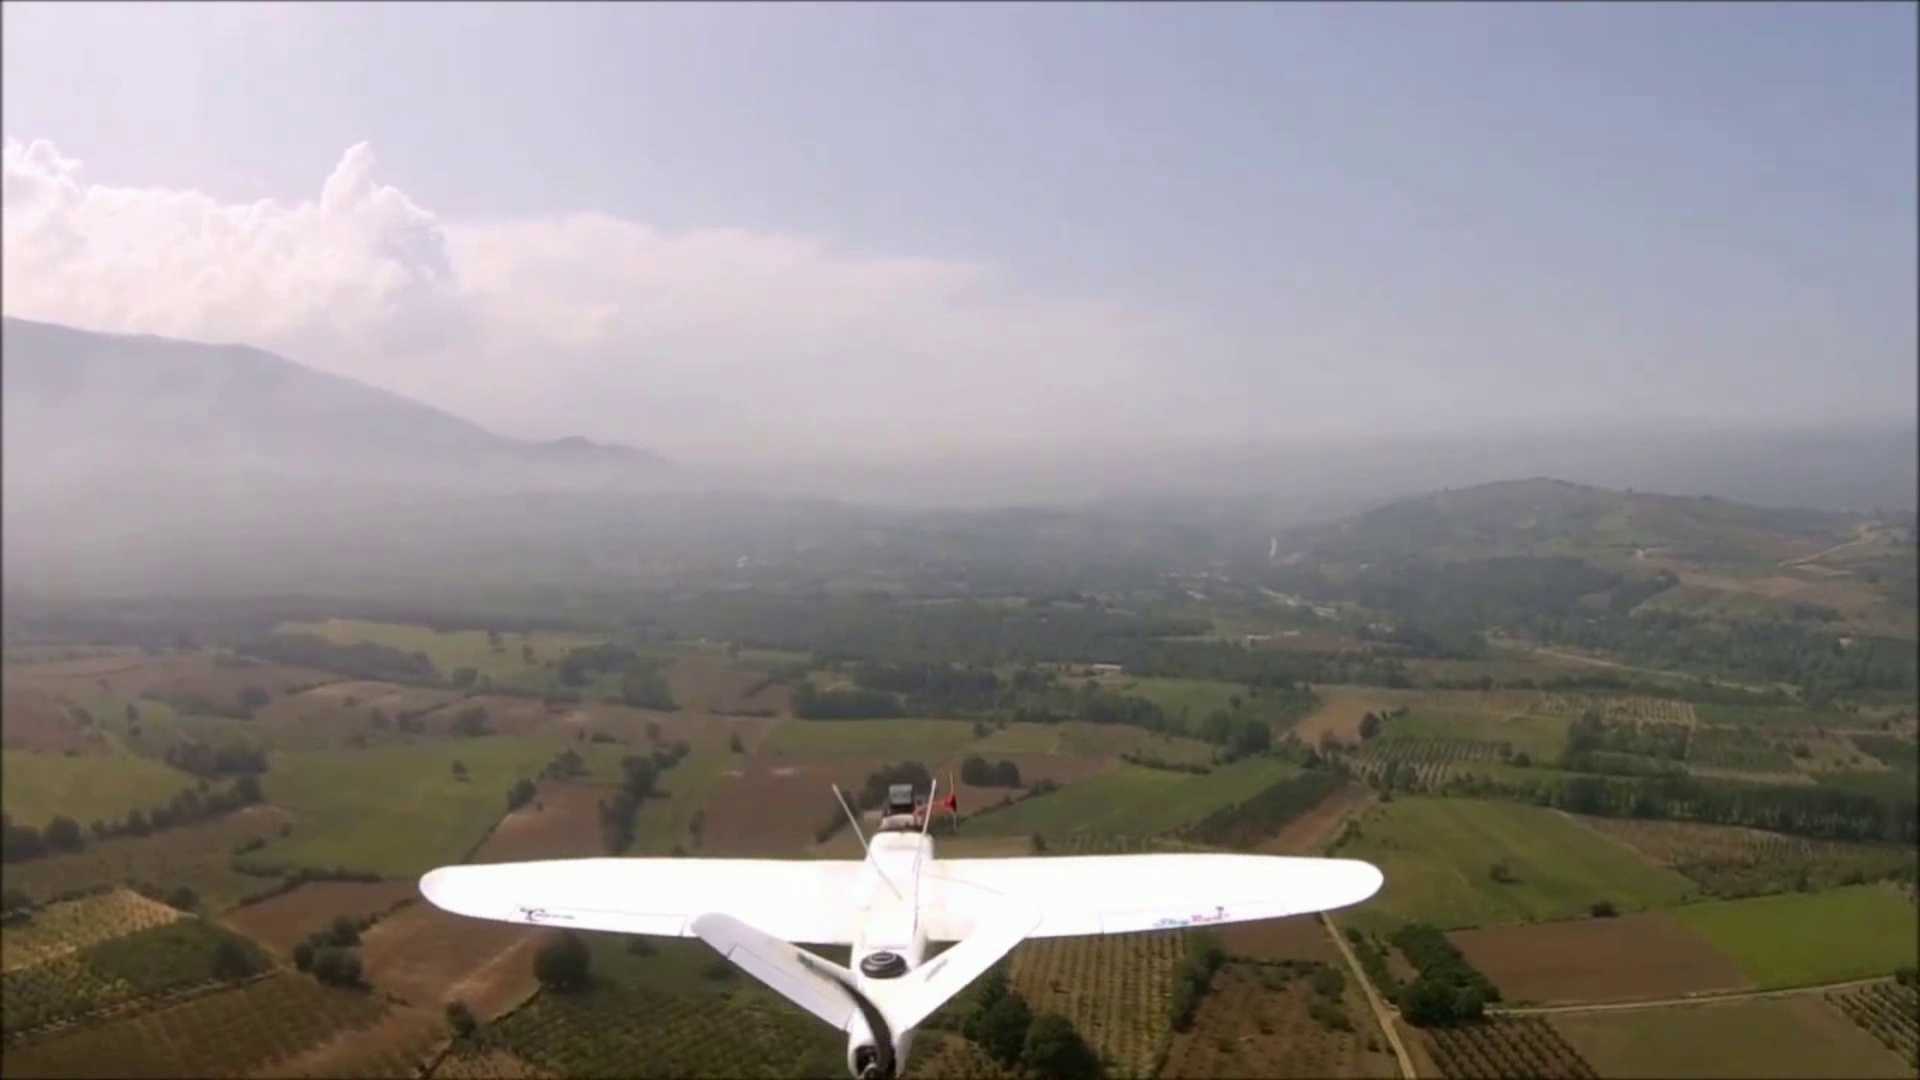airplane: (417, 762, 1386, 1072)
